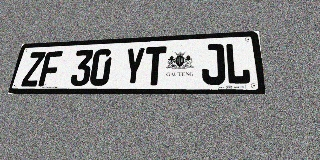0: (89, 49, 113, 86)
3: (69, 49, 94, 86)
F: (38, 51, 63, 86)
J: (201, 44, 226, 85)
L: (225, 42, 251, 85)
T: (143, 46, 167, 85)
Y: (122, 47, 146, 86)
Z: (21, 52, 46, 87)
